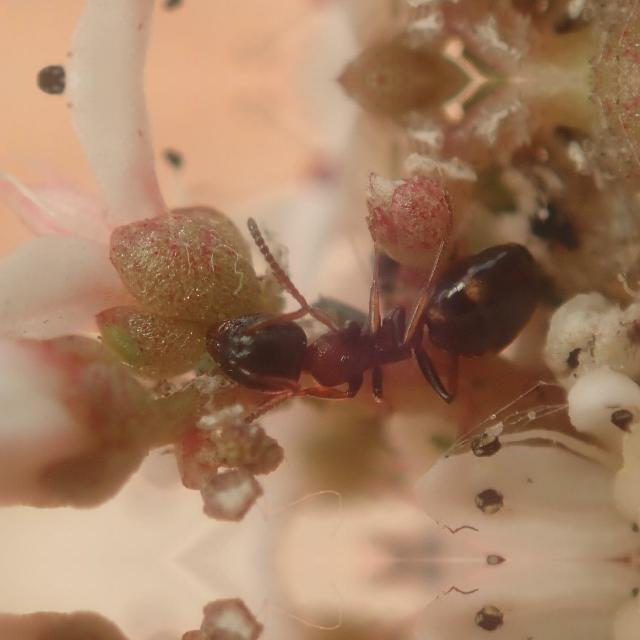Dolichoderus: (143, 133, 587, 425)
